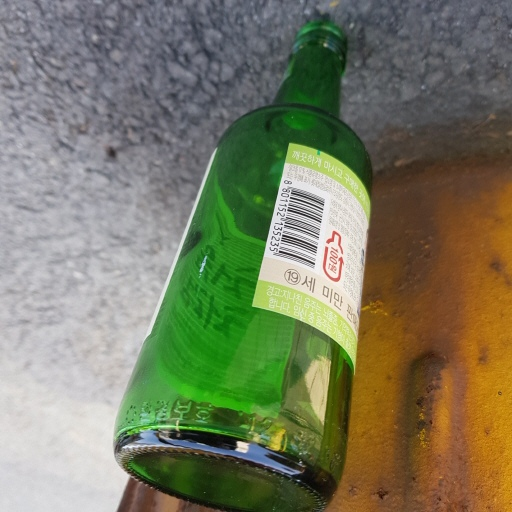Glass_0: (105, 15, 374, 512)
